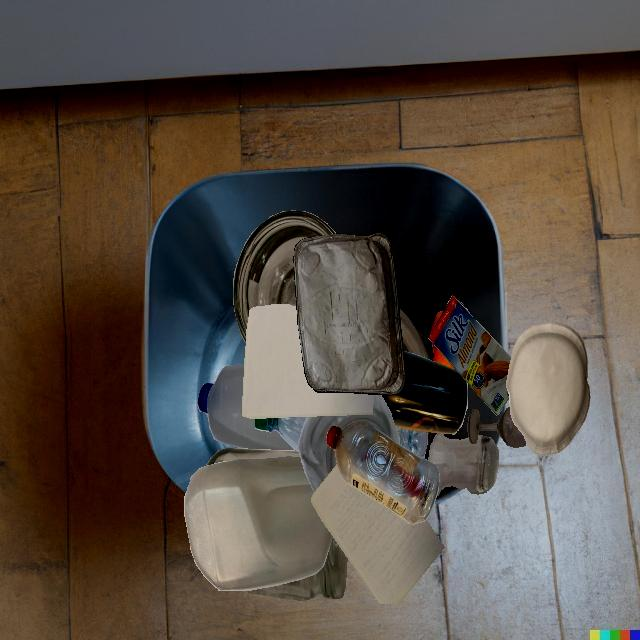biowaste: (432, 342, 455, 369), (430, 310, 444, 334)
cardboard: (428, 296, 511, 416)
glass: (233, 211, 336, 343), (381, 351, 467, 434), (242, 536, 347, 601), (428, 433, 498, 496), (467, 407, 526, 448), (206, 448, 300, 466)
metal: (293, 233, 406, 396)
paper: (311, 464, 444, 604), (242, 304, 374, 418), (506, 322, 590, 456)
plastic: (184, 456, 333, 591), (326, 420, 440, 525), (297, 395, 400, 493), (198, 364, 297, 451), (255, 416, 307, 451), (395, 426, 428, 458)
